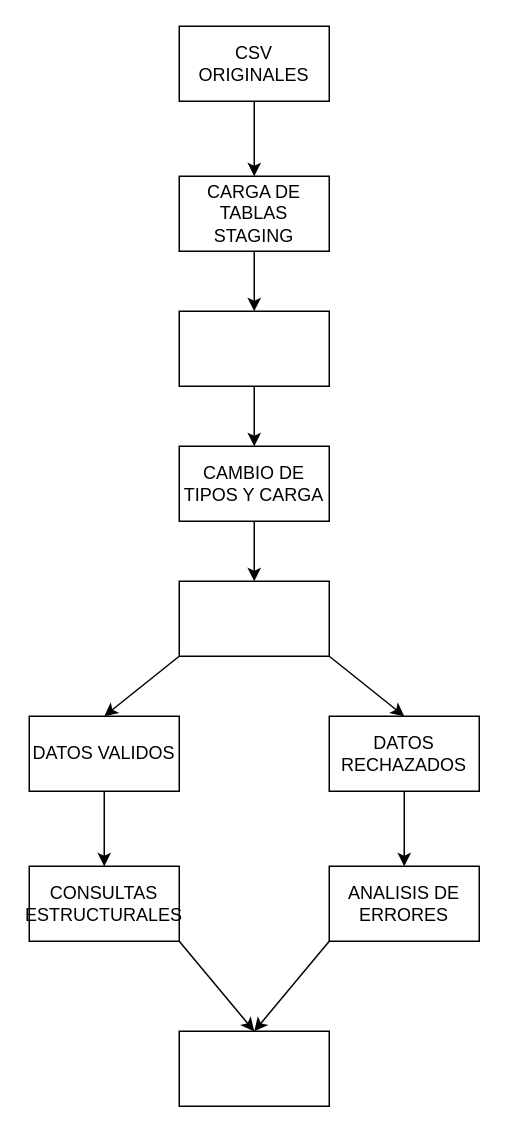
This 506x1133 diagram has some shape labels left out. Here are the shapes that lost their labels. From the top down, the centre of each, then its label:
At (x=253, y=348): "DISENHO DEL MODELO - TABLAS".
At (x=253, y=618): "VALIDACION DE DATOS".
At (x=253, y=1068): "VALIDACION FINAL".
